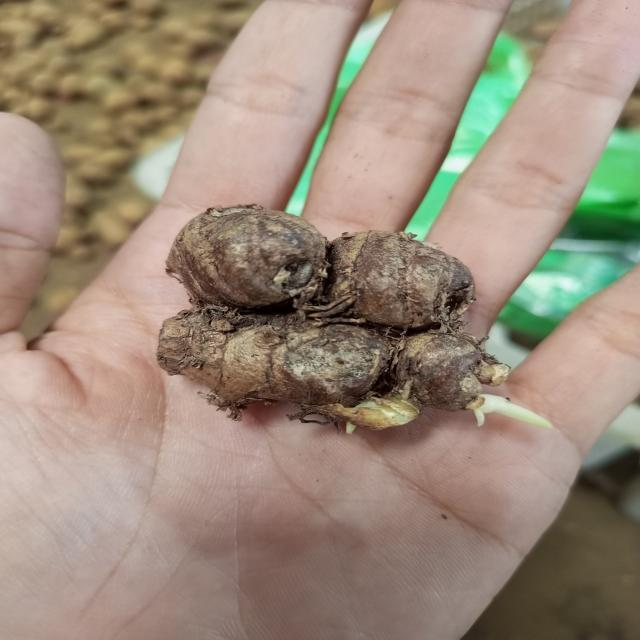ginger: (168, 207, 490, 418)
